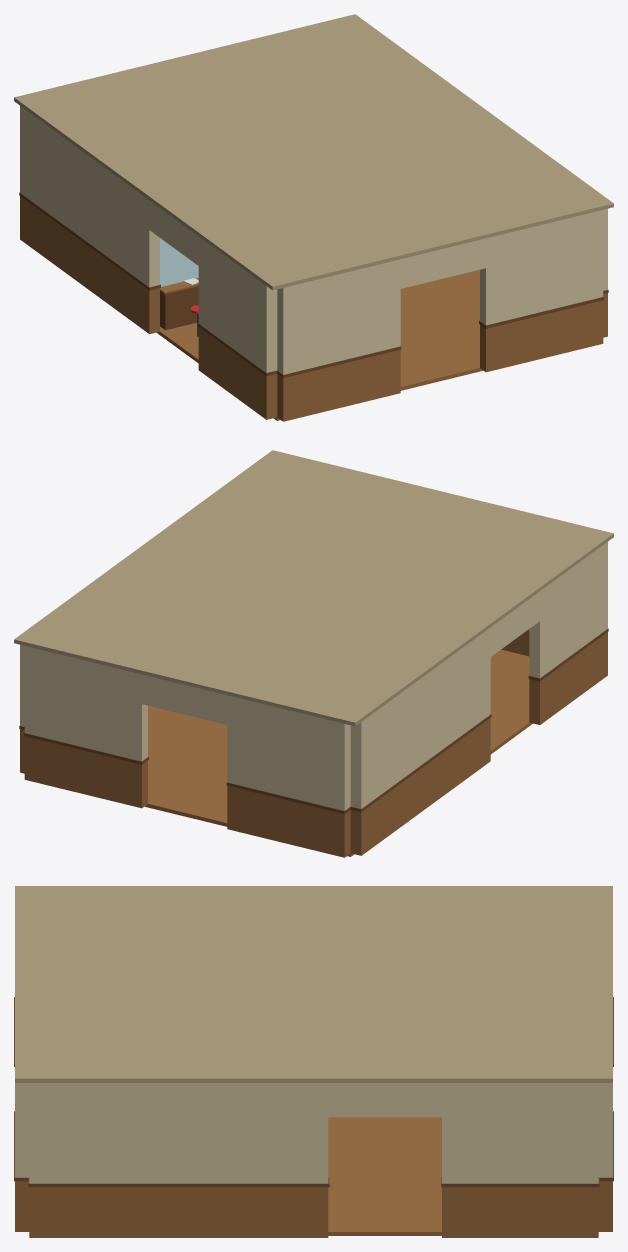
File: room_zoology_observation_room.glb
The picture shows the model from 3 angles, top to bottom: view 1: azimuth 30°, elevation 25°; view 2: azimuth 150°, elevation 25°; view 3: azimuth 270°, elevation 25°; orthographic projection. The views are drawn at different scales.
Parts seen in each view (by area): view 1: room_zoology_observation_room; view 2: room_zoology_observation_room; view 3: room_zoology_observation_room.
Boxes of the visible parts, x1=… form: room_zoology_observation_room: x1=14, y1=14, x2=613, y2=421; room_zoology_observation_room: x1=14, y1=450, x2=613, y2=857; room_zoology_observation_room: x1=14, y1=886, x2=613, y2=1237.
Bounding box in the file's own units: 9.62 × 3.8 × 12.64.
Materials: 1 (1 with a texture image).
